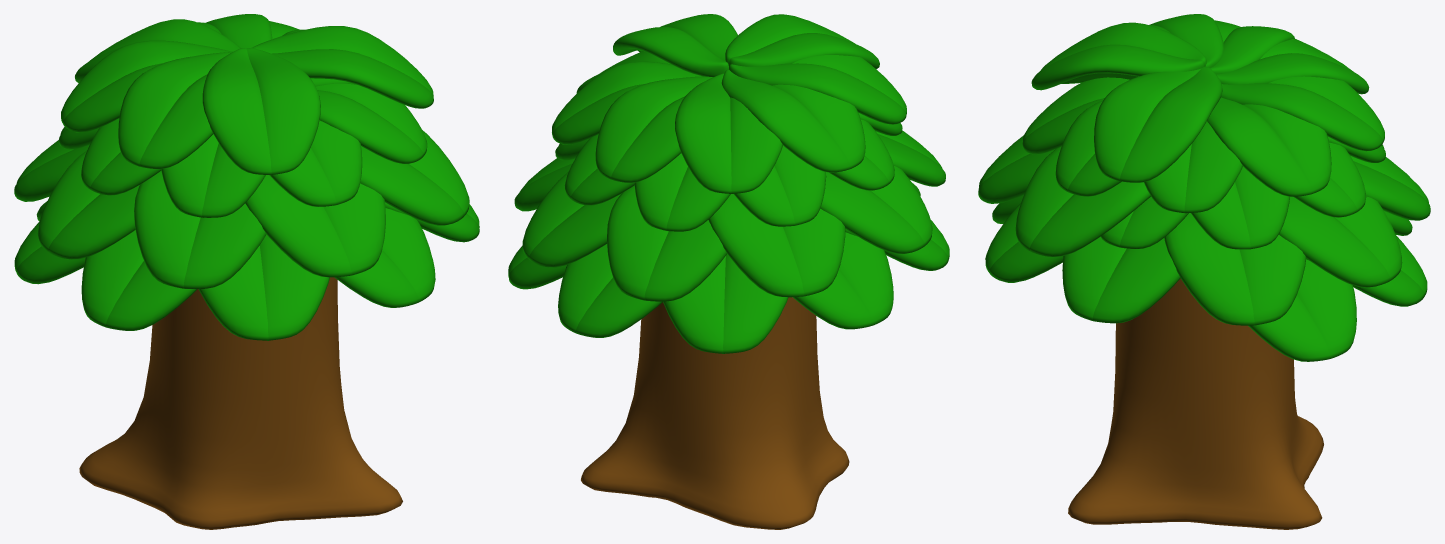
File: 有树叶的树.glb
3 views of the same model, side by side, from view 1: azimuth 30°, elevation 25°; view 2: azimuth 150°, elevation 25°; view 3: azimuth 270°, elevation 25° (orthographic). The views are drawn at different scales.
Visible parts, largest first — view 1: 树叶3.005; view 2: 树叶3.005; view 3: 树叶3.005.
Boxes of the visible parts, bbox=[...] form: 树叶3.005: bbox=[14, 14, 479, 529]; 树叶3.005: bbox=[508, 14, 949, 529]; 树叶3.005: bbox=[978, 14, 1430, 529].
Size of the model in its own units: 4.94 by 5.28 by 4.96.
